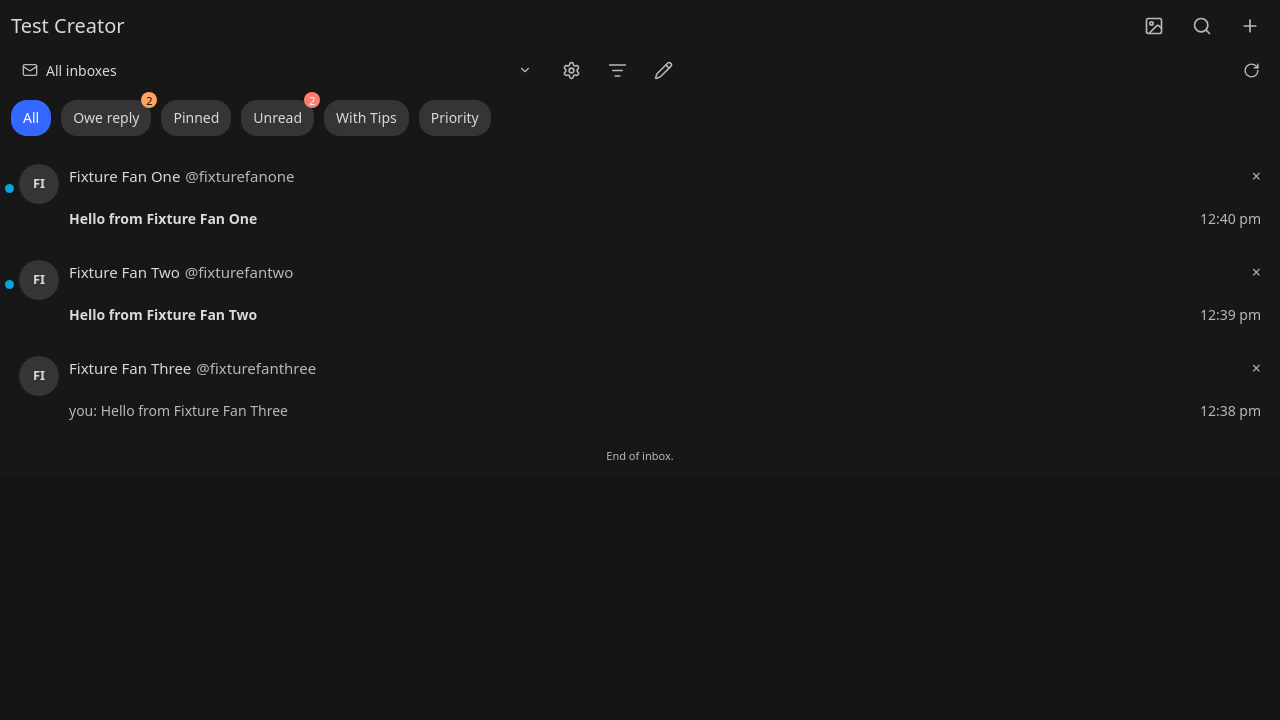
it: FanList › a chip asks the relay for its filter, and the filter row's pencil opens the folder picker until Done
What coordinates should you click on to do the following:
click the button "Unread 2"
I would click on:
 (278, 118)
Its box is [241,100,314,136].
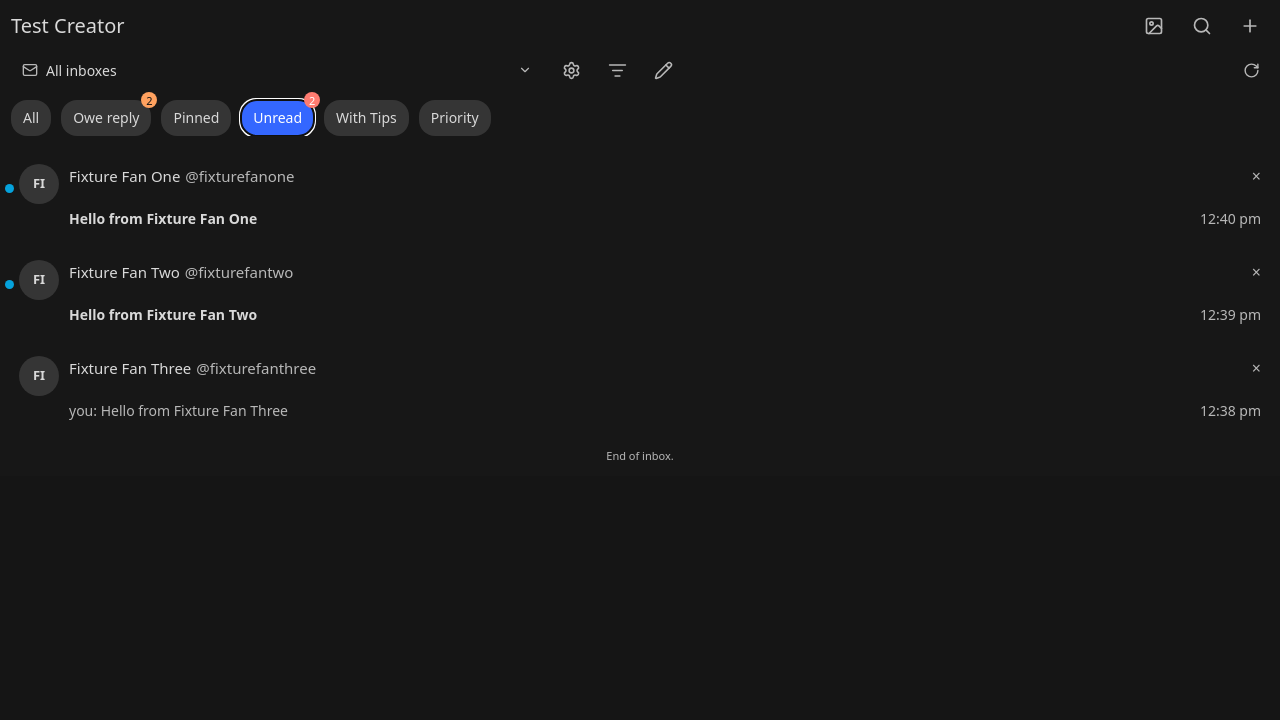
What coordinates should you click on to do the following:
click the button named "Pin lists as chips"
I would click on:
 (663, 70)
Its box is [645,52,681,88].
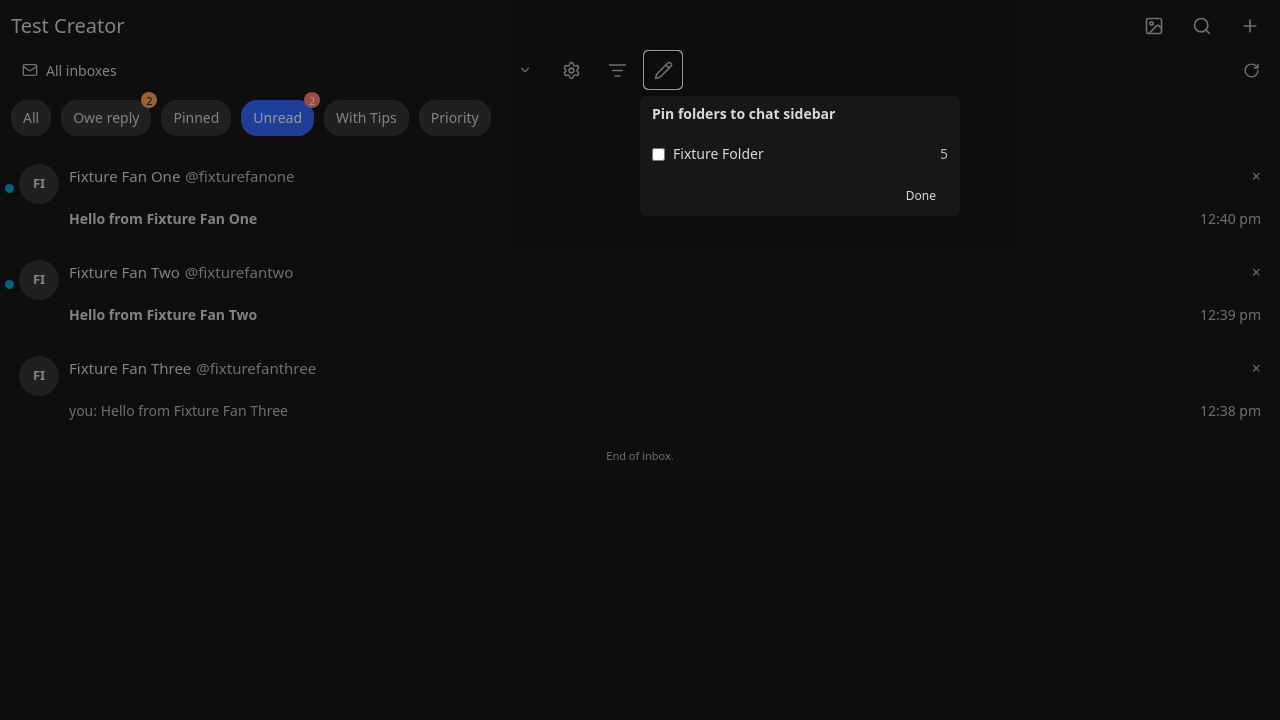
Expected: the text "Pin folders to chat sidebar" is shown, [652,104,835,123]
What coordinates should you click on to do the following:
click the button "Done"
I would click on:
 (921, 196)
Its box is [894,184,948,208].
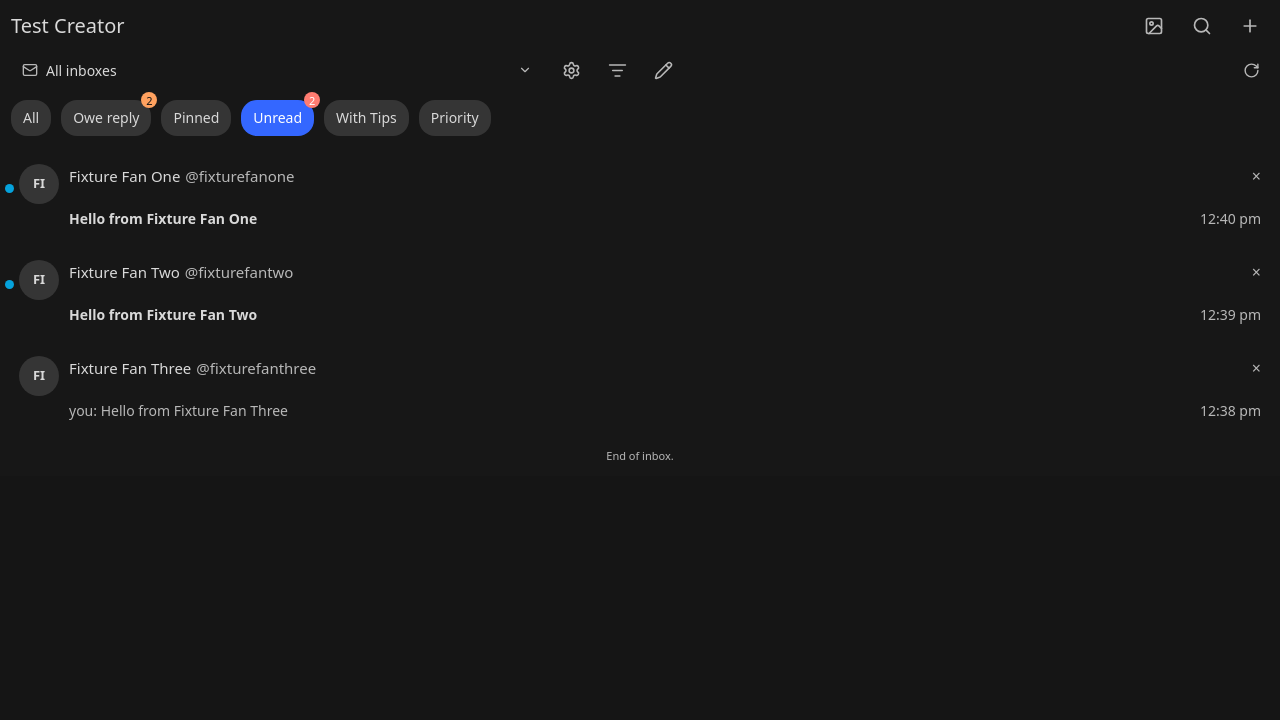
Expected: the text "Pin folders to chat sidebar" is gone
